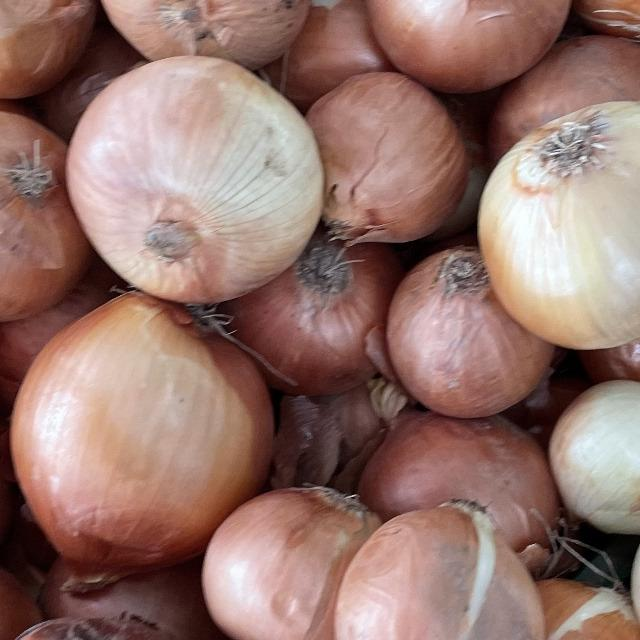onion: (60, 48, 330, 318), (465, 95, 640, 362), (307, 480, 545, 640), (360, 0, 585, 95), (0, 95, 75, 345)
